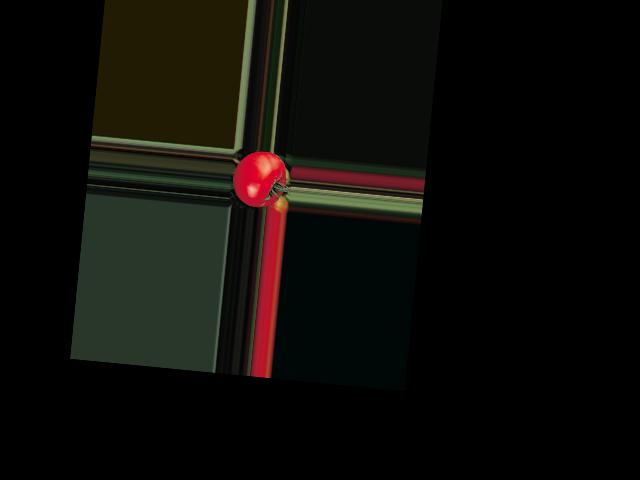tomato: (230, 148, 288, 208)
